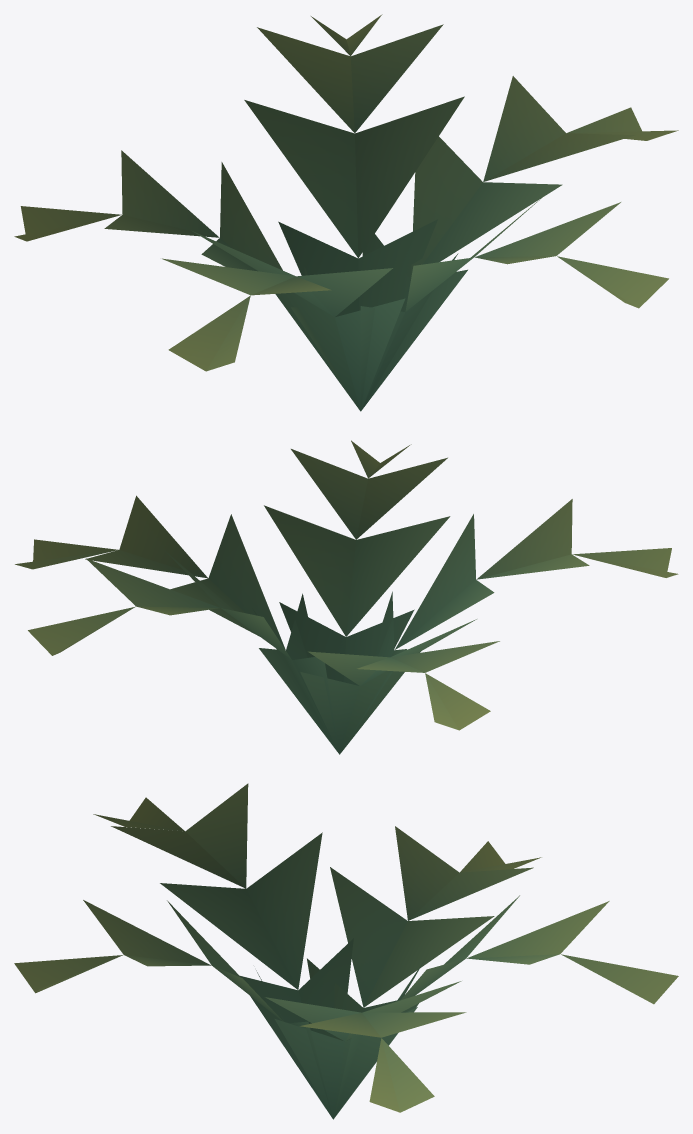
File: fern_lod1.glb
The picture shows the model from 3 angles, top to bottom: view 1: azimuth 30°, elevation 25°; view 2: azimuth 150°, elevation 25°; view 3: azimuth 270°, elevation 25°; orthographic projection. The views are drawn at different scales.
Visible parts, largest first — view 1: fern_lod1; view 2: fern_lod1; view 3: fern_lod1.
Boxes of the visible parts, x1,y1,x2,y2 form: fern_lod1: (14,14,678,411); fern_lod1: (15,440,678,754); fern_lod1: (14,783,678,1119).
Bounding box in the file's own units: 1.21 × 0.4795 × 1.2.
